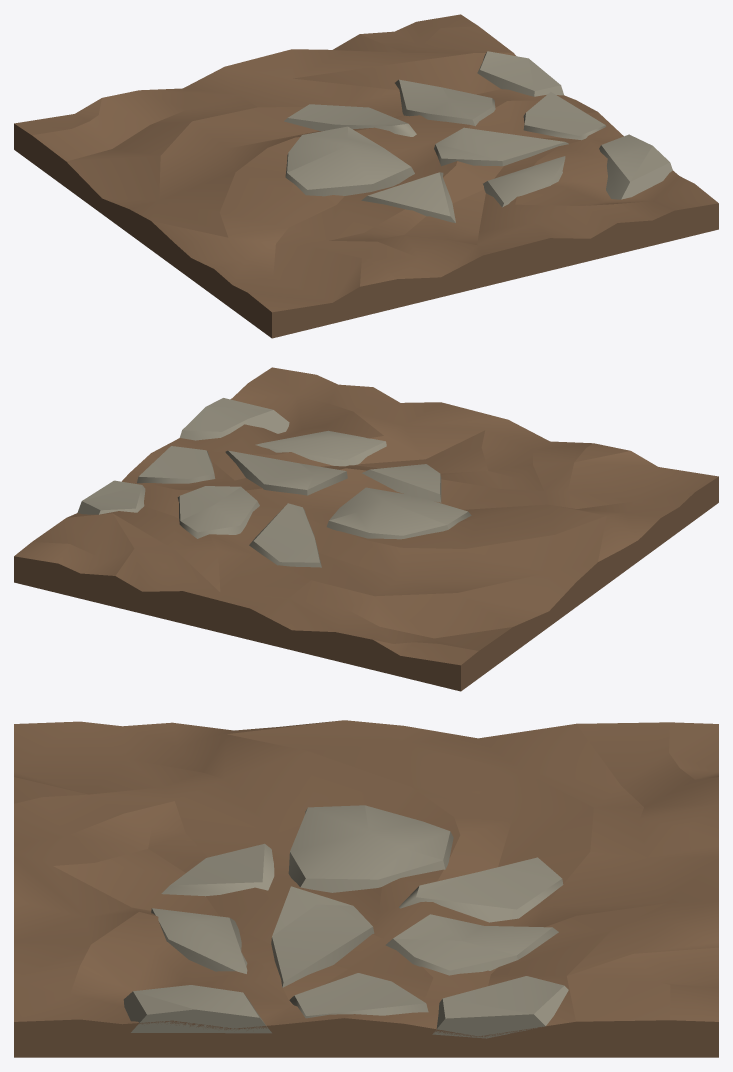
The model's file is Ground_Stone_Path_Ending_L.glb.
The picture shows the model from 3 angles, top to bottom: view 1: azimuth 30°, elevation 25°; view 2: azimuth 150°, elevation 25°; view 3: azimuth 270°, elevation 25°; orthographic projection. The views are drawn at different scales.
Parts seen in each view (by area): view 1: Ground_Stone_Path_Ending_L; view 2: Ground_Stone_Path_Ending_L; view 3: Ground_Stone_Path_Ending_L.
Part boxes in pixels (bbox=[...]): Ground_Stone_Path_Ending_L: bbox=[14, 14, 718, 338]; Ground_Stone_Path_Ending_L: bbox=[14, 367, 718, 691]; Ground_Stone_Path_Ending_L: bbox=[14, 720, 718, 1057].
Size of the model in its own units: 1.47 by 0.1489 by 1.47.
